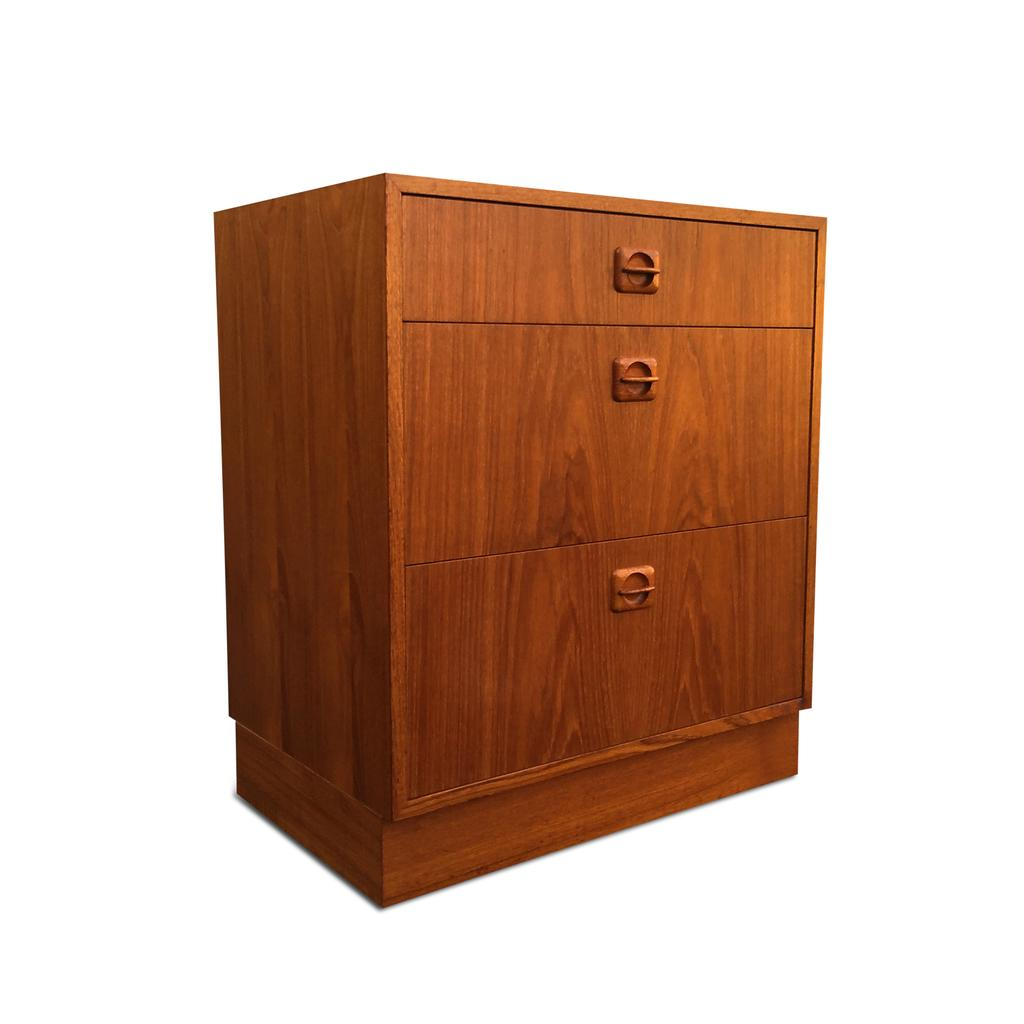cabinet_door: (398, 318, 810, 524), (408, 564, 813, 712), (406, 194, 824, 314)
handle: (610, 556, 668, 612), (610, 353, 666, 401), (612, 248, 670, 290)
